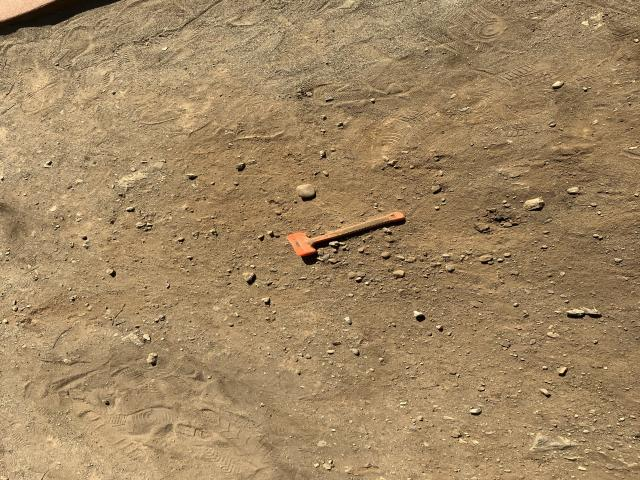hammer: (287, 210, 404, 256)
